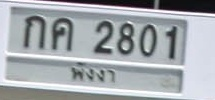txt01: (22, 14, 48, 50)
txt03: (50, 16, 75, 52)
